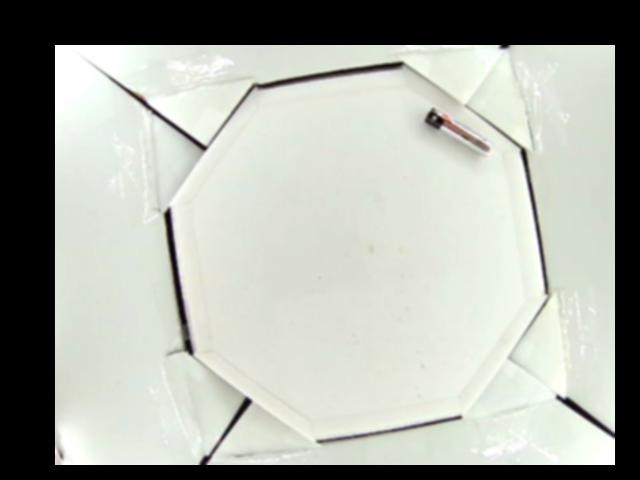Battery: (423, 106, 491, 154)
